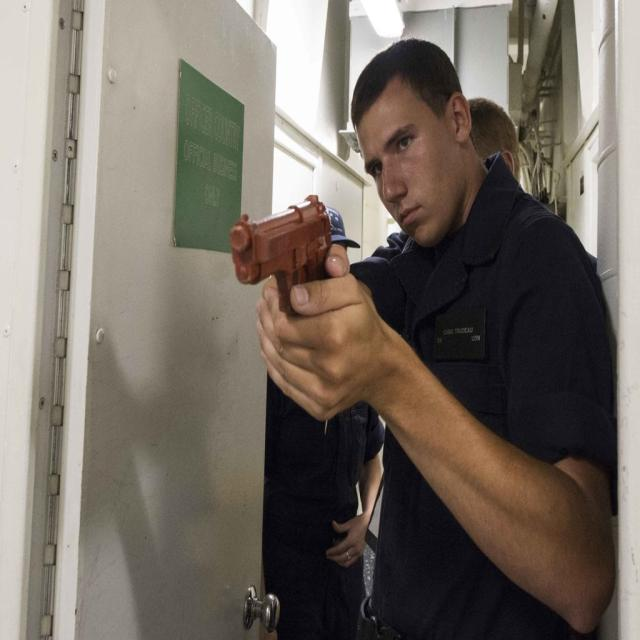Gun: (230, 195, 331, 311)
